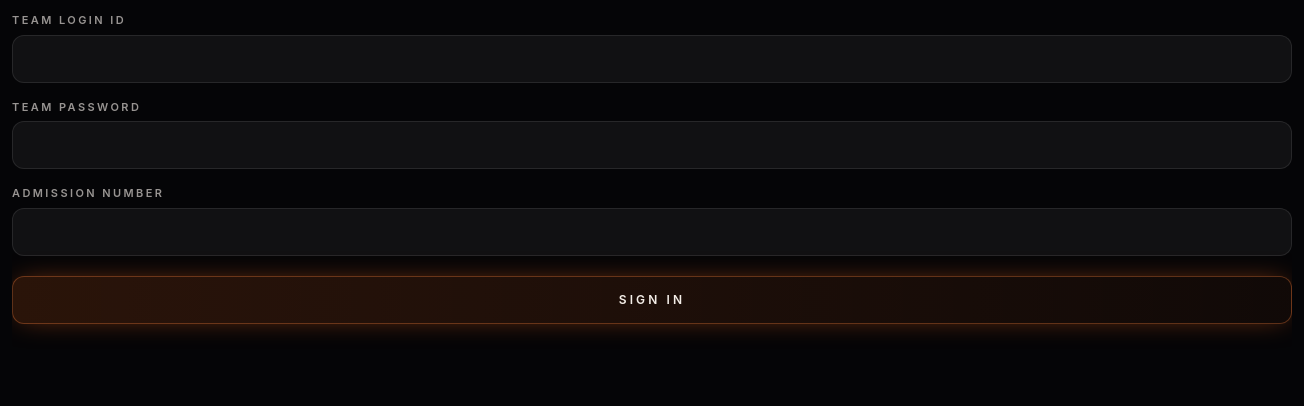
Scenario: <LoginForm role='participant' /> › maps 423 COMPETITION_NOT_RUNNING to a safe message
The width and height of the screenshot is (1304, 406).
Type " team_a " into the field labelled "Team Login ID". click: (652, 58)
box: left=12, top=34, right=1292, bottom=82
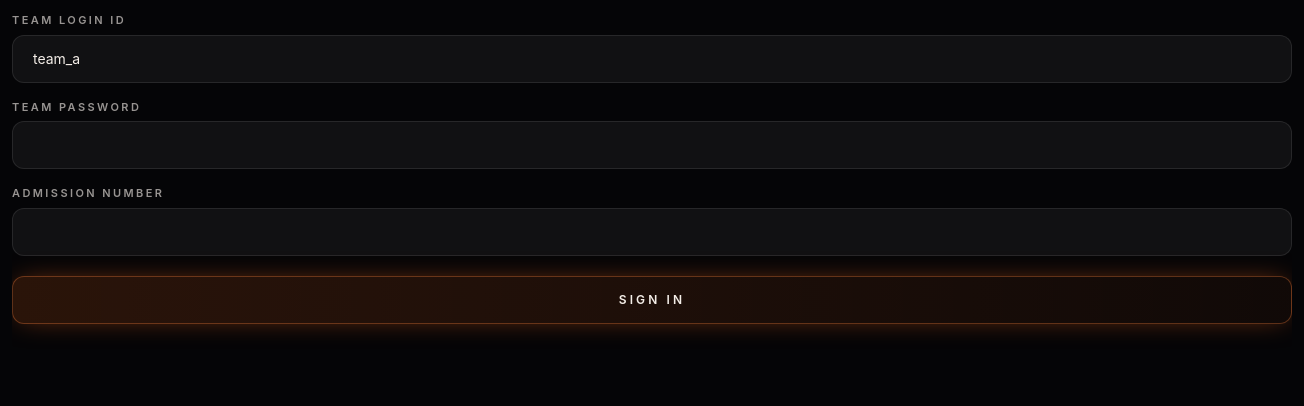
Type "pw-secret" into the password field labelled "Team Password". click: (652, 145)
box: left=12, top=121, right=1292, bottom=169
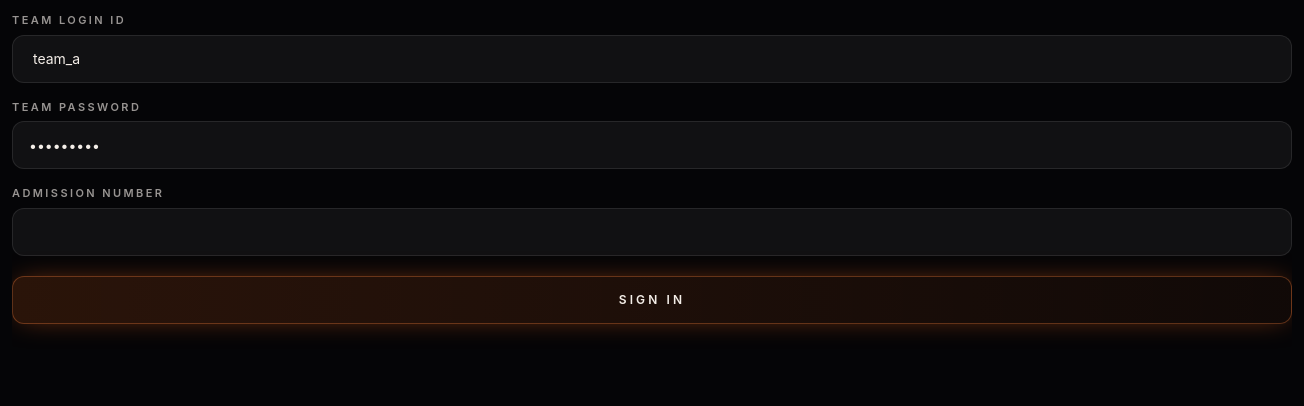
Type " 23je0001 " into the field labelled "Admission Number". click: (652, 232)
box: left=12, top=208, right=1292, bottom=256
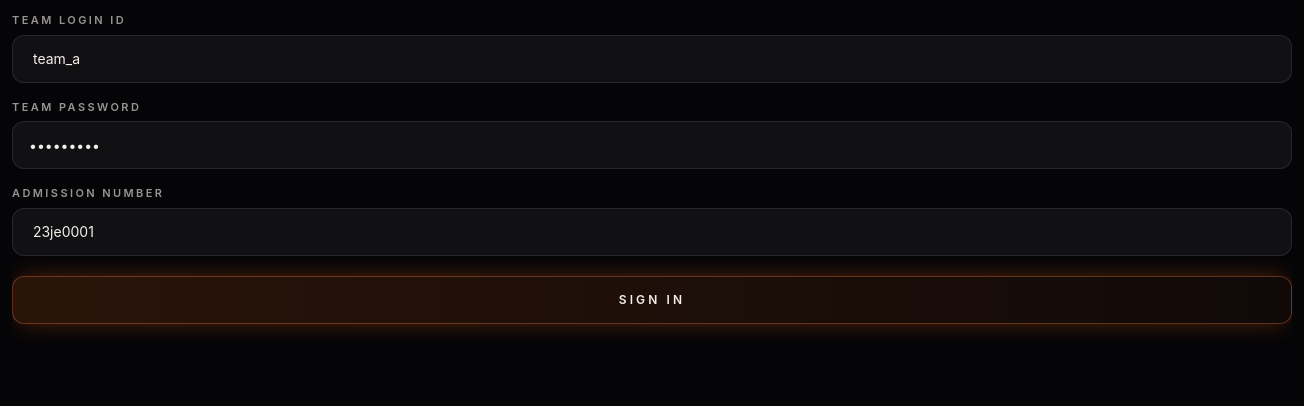
Click the button "Sign in". click: click(652, 300)
box: left=12, top=276, right=1292, bottom=324
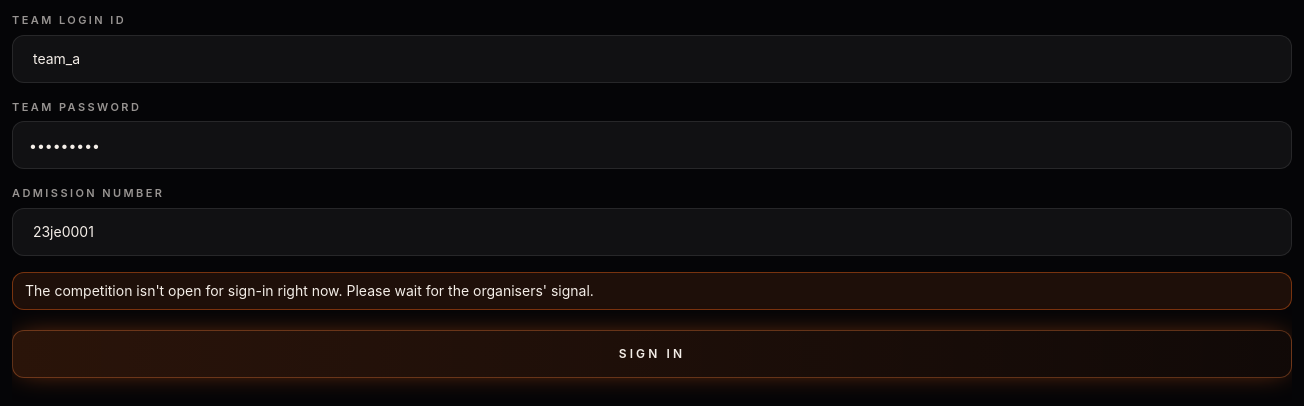
Expected: the message shows "isn't open for sign-in", left=25, top=282, right=594, bottom=298
